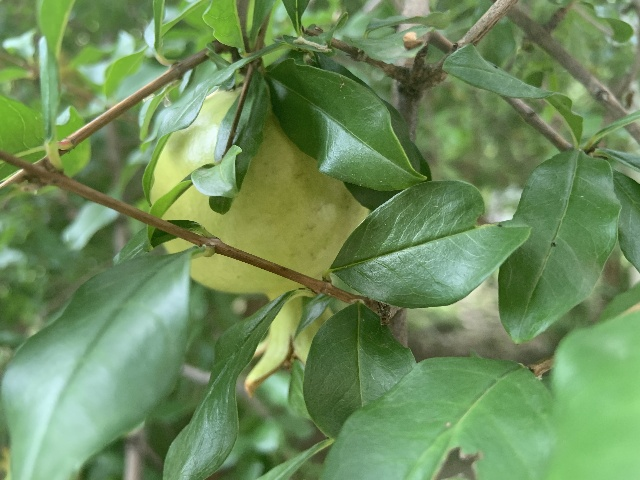mid-growth: (149, 85, 369, 400)
